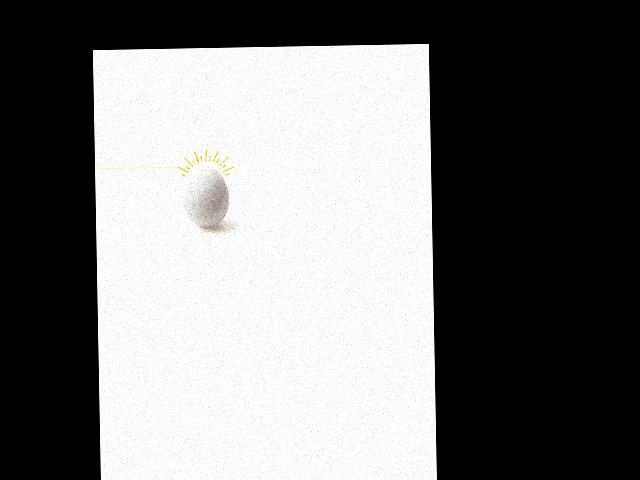egg: (181, 166, 229, 227)
